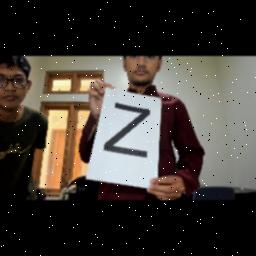z: (100, 96, 160, 164)
